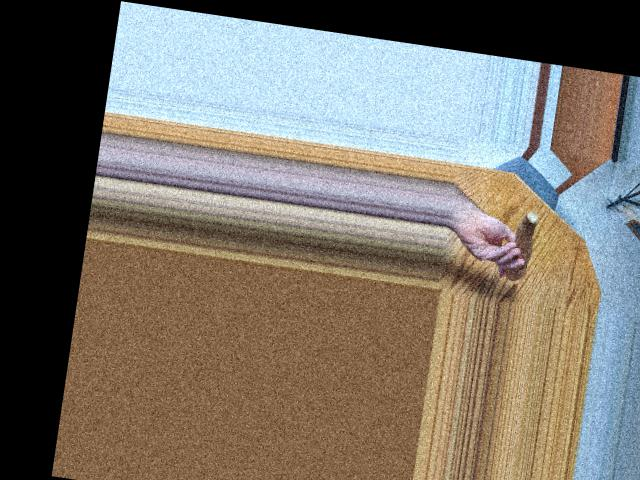sweet_potato: (506, 203, 539, 282)
